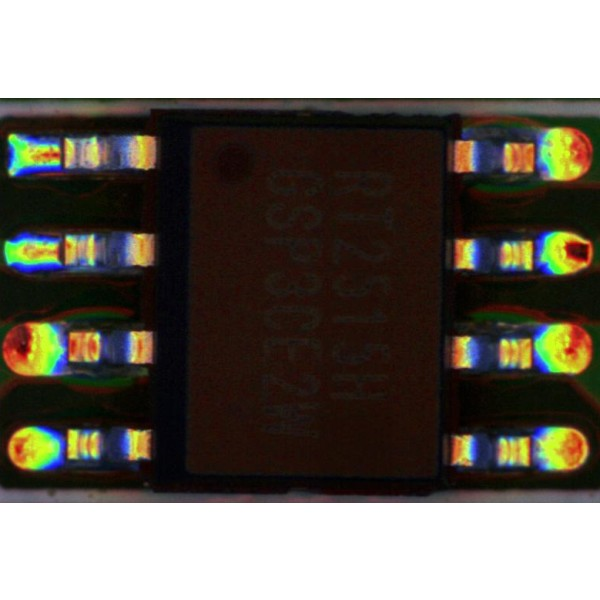Bad_podu: (35, 144, 76, 168), (35, 242, 79, 258)
